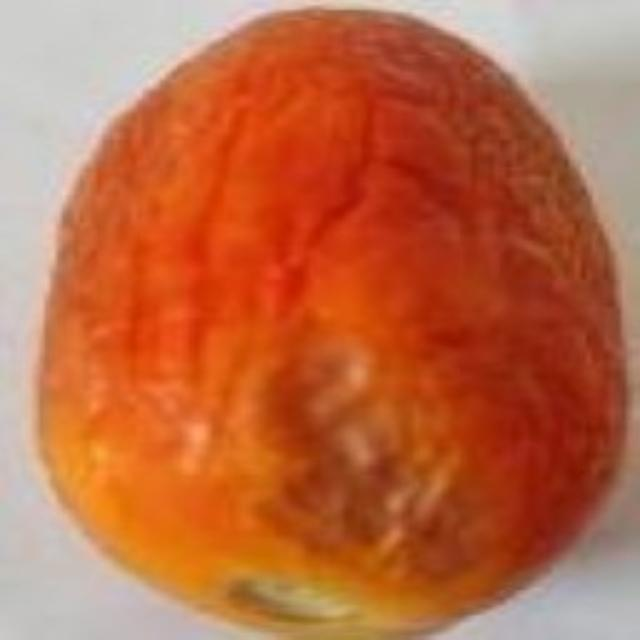defect: (40, 2, 625, 640)
